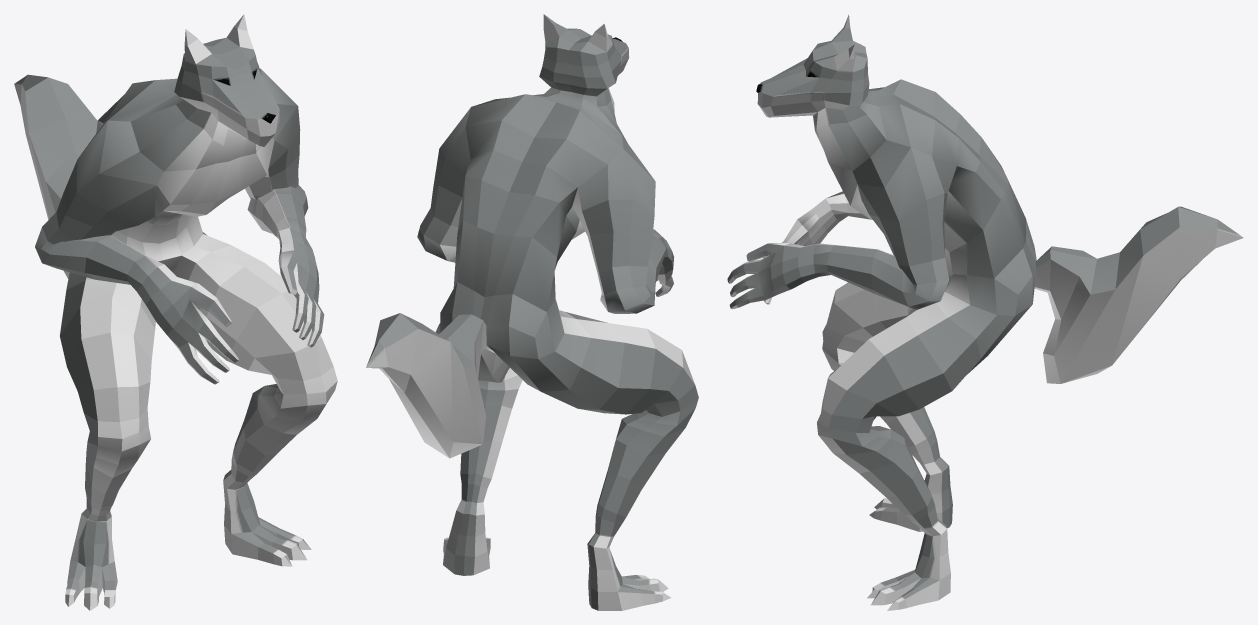
The model's file is WolfIdle_(132).obj.
The picture shows the model from 3 angles, left to right: view 1: azimuth 30°, elevation 25°; view 2: azimuth 150°, elevation 25°; view 3: azimuth 270°, elevation 25°; orthographic projection. The views are drawn at different scales.
Parts seen in each view (by area): view 1: Box001; view 2: Box001; view 3: Box001.
Boxes of the visible parts, x1=… form: Box001: x1=14, y1=14, x2=337, y2=610; Box001: x1=366, y1=14, x2=698, y2=610; Box001: x1=727, y1=14, x2=1243, y2=610.
Size of the model in its own units: 60.88 by 131 by 115.
